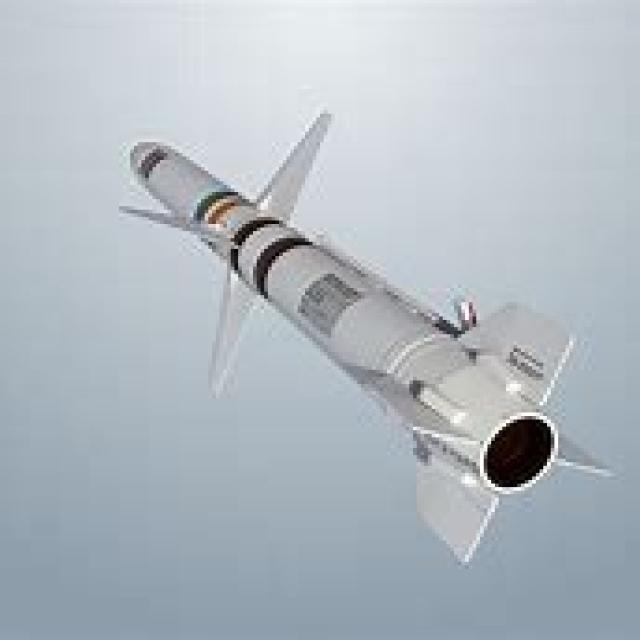missile: (118, 108, 612, 572)
